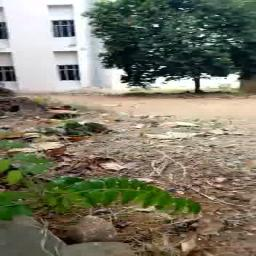Azadiractha Indica: (0, 140, 208, 228)
